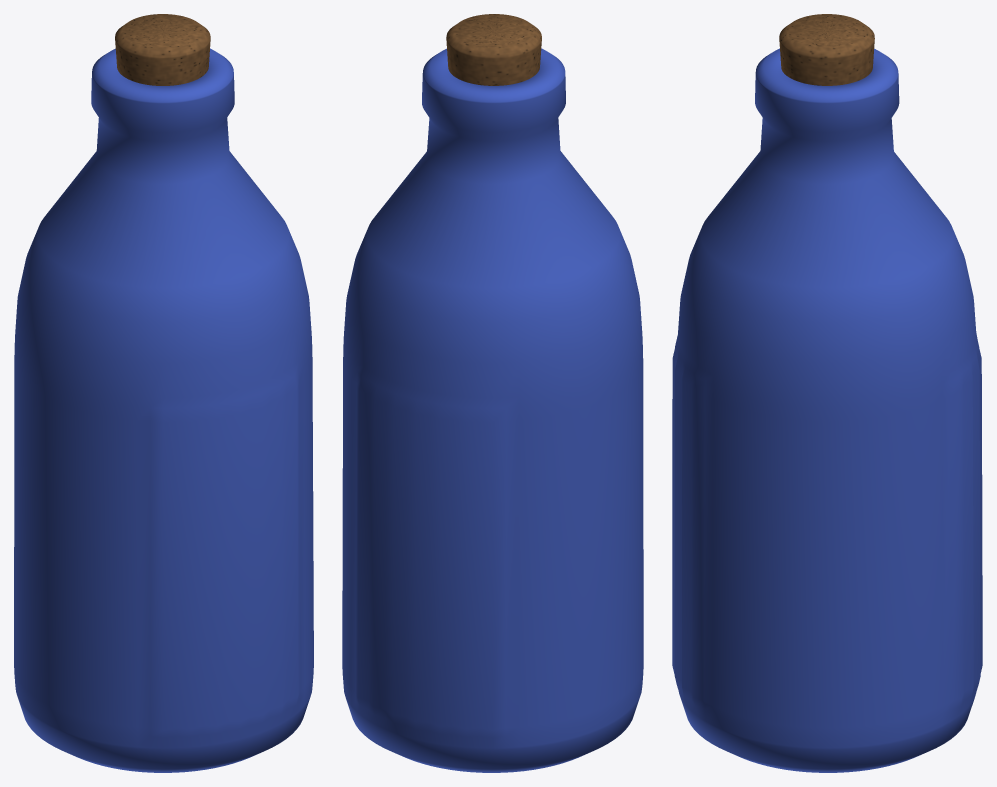
Rendered from bottle_apothecary.glb.
3 views of the same model, side by side, from view 1: azimuth 30°, elevation 25°; view 2: azimuth 150°, elevation 25°; view 3: azimuth 270°, elevation 25° (orthographic).
Visible parts, largest first — view 1: Glass, Cap; view 2: Glass, Cap; view 3: Glass, Cap.
Part boxes in pixels (x1,y1,x2,y2): Glass: [14, 48, 313, 772]; Cap: [115, 14, 210, 85]; Glass: [342, 48, 643, 772]; Cap: [446, 14, 541, 85]; Glass: [672, 48, 982, 772]; Cap: [779, 14, 874, 85].
Bounding box in the file's own units: 0.0463 × 0.1177 × 0.048.
Materials: 3 (1 with a texture image).
